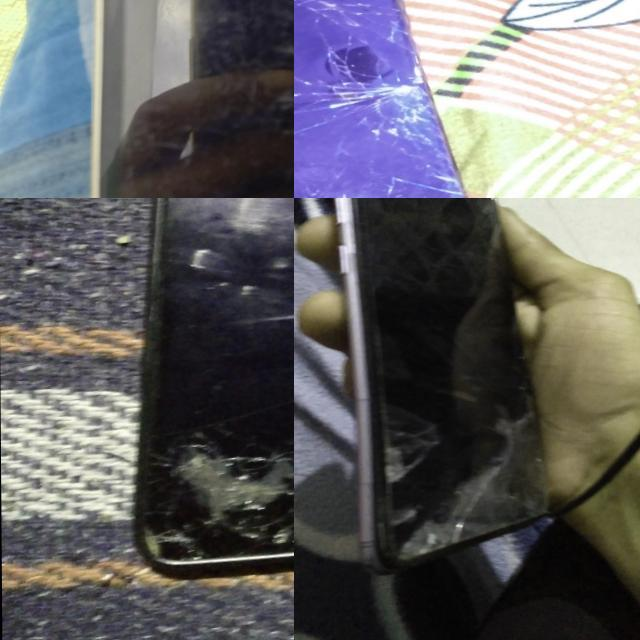screen crack: (294, 0, 485, 198), (357, 390, 522, 572), (117, 437, 294, 581)
